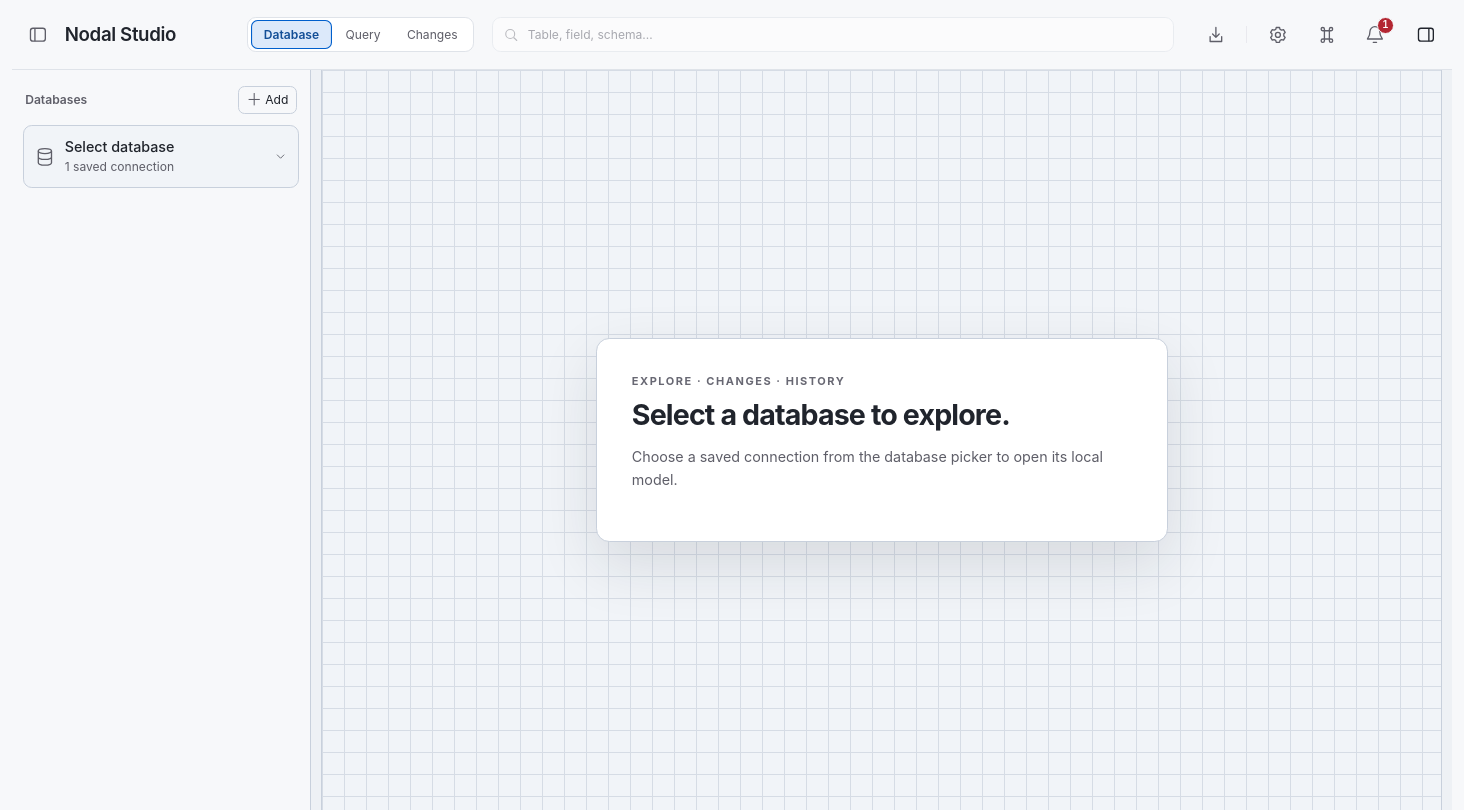
Scenario: startup workspace restoration › reports an unsuccessful local restore without silently reconnecting
The width and height of the screenshot is (1464, 810).
Click the button named "Open notifications" at (1375, 35), box [1351,10,1399,59]
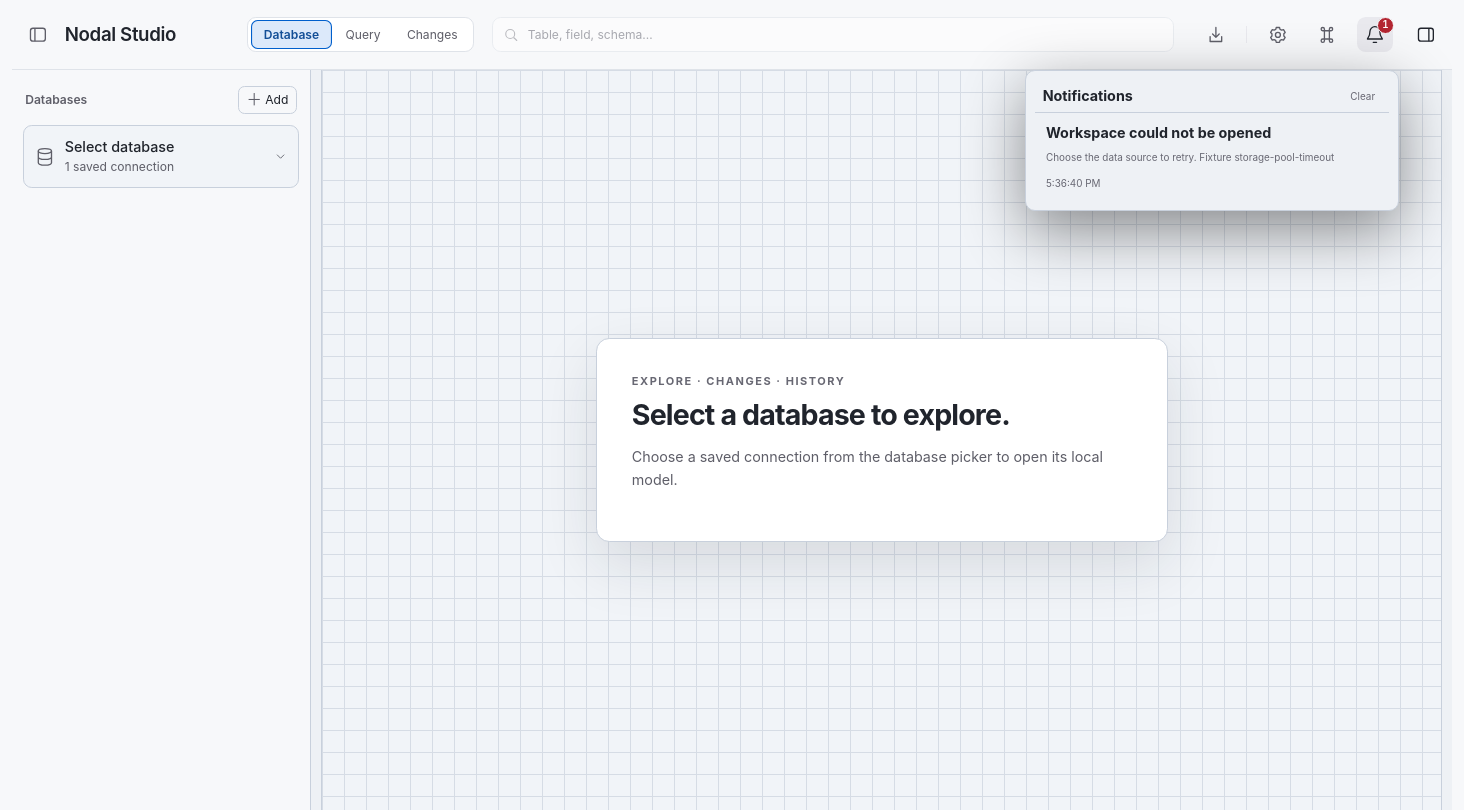
Check: the text "Workspace could not be opened" is shown, box [1046,124,1271,141]
Check: the text "Fixture storage-pool-timeout" is shown, box [1046,151,1334,163]
